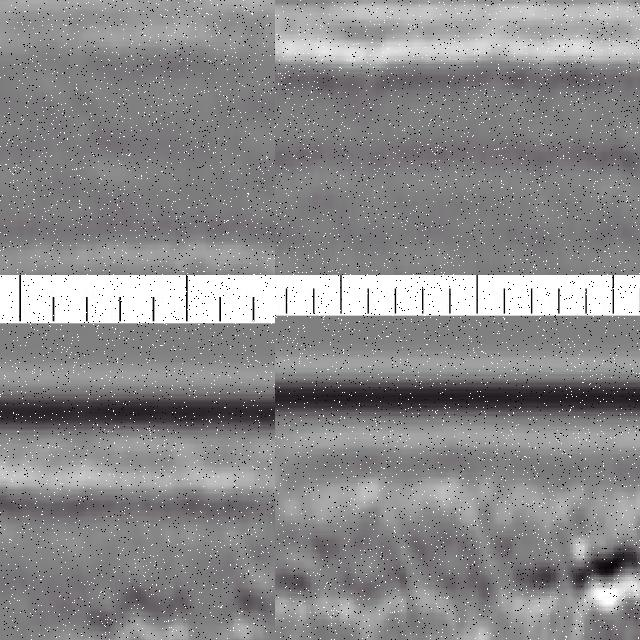loose: (453, 511, 640, 640), (87, 557, 276, 640)
